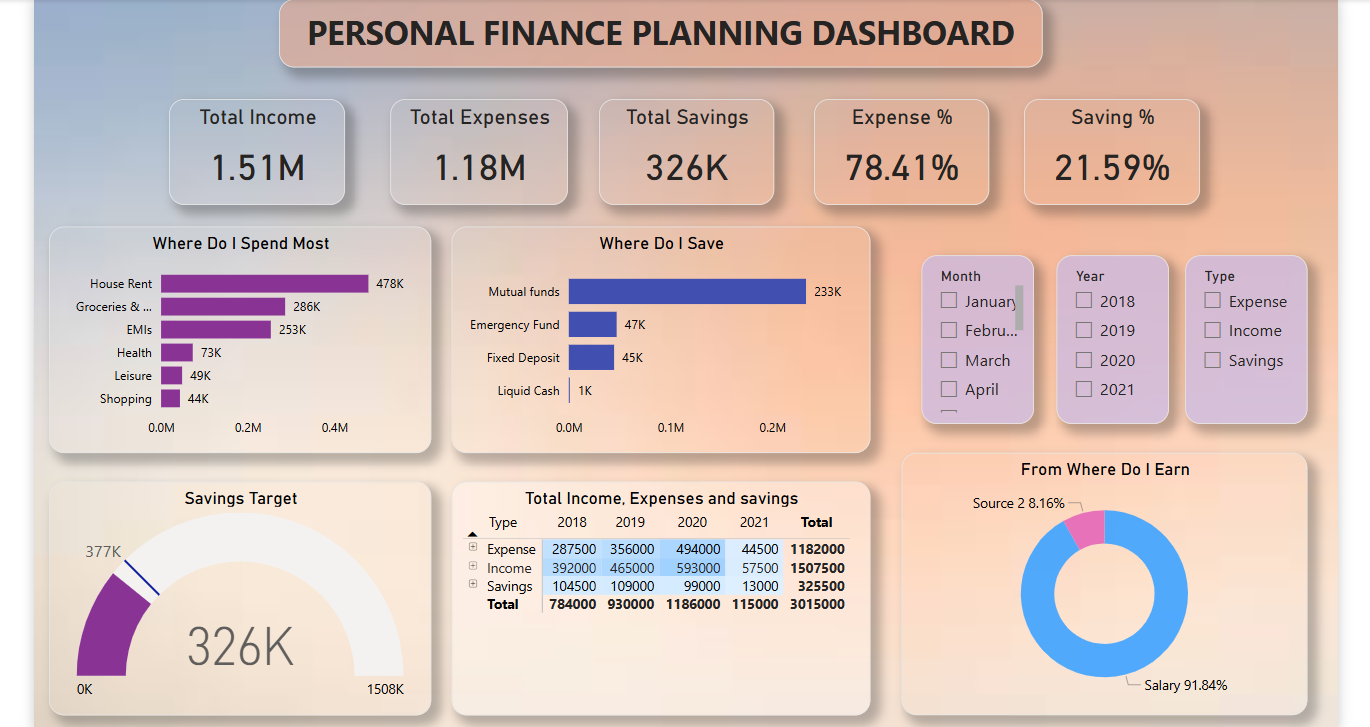

This screenshot's page, from the dashboard's own definition file:
{"tool":"powerbi","page":{"name":"Page 1","canvas":[1280,720],"ordinal":0},"visuals":[{"type":"textbox","box":[240.5,0,749.7,67.5],"z":0},{"type":"card","title":"Total Income","fields":{"Values":["Financial Data.Total Income"]},"box":[132.5,98.2,173,104.3],"z":1000},{"type":"card","title":"Total Expenses","fields":{"Values":["Financial Data.Total Savings"]},"box":[349.7,98.2,174.2,104.3],"z":2000},{"type":"card","title":"Total Savings","fields":{"Values":["Financial Data.Total Savings"]},"box":[554.6,98.2,171.8,104.3],"z":3000},{"type":"card","title":"Saving %","fields":{"Values":["Financial Data.Expense Percentage"]},"box":[971.8,98.2,173,104.3],"z":4000},{"type":"card","title":"Expense %","fields":{"Values":["Financial Data.Expenses Percentage"]},"box":[765.6,98.2,171.8,104.3],"z":5000},{"type":"slicer","fields":{"Values":["Financial Data.Year"]},"box":[1004.9,252.8,110.4,165.6],"z":6000},{"type":"slicer","fields":{"Values":["Financial Data.Date.Variation.Date Hierarchy.Month"]},"box":[871.2,251.5,110.4,165.6],"z":7000},{"type":"clusteredBarChart","title":"Where Do I Spend Most","fields":{"Category":["Financial Data.Component"],"Y":["Financial Data.Total Expense"]},"box":[14.7,223.3,375.5,222.1],"z":8000},{"type":"clusteredBarChart","title":"Where Do I Save","fields":{"Category":["Financial Data.Component"],"Y":["Financial Data.Total Savings"]},"box":[409.8,223.3,411,222.1],"z":8001},{"type":"donutChart","title":"From Where Do I Earn","fields":{"Category":["Financial Data.Component"],"Y":["Financial Data.Total Income"]},"box":[851.5,445.4,398.8,257.7],"z":8002},{"type":"pivotTable","title":"Total Income, Expenses and savings","fields":{"Columns":["Financial Data.Year"],"Rows":["Financial Data.Type","Financial Data.Component"],"Values":["Sum(Financial Data.Value)"]},"box":[409.8,473.6,411,229.4],"z":8003},{"type":"gauge","title":"Savings Target","fields":{"MaxValue":["Financial Data.Total Income"],"Y":["Financial Data.Total Savings"],"TargetValue":["Financial Data.Savings %"]},"box":[14.7,473.6,375.5,229.4],"z":8004},{"type":"slicer","fields":{"Values":["Financial Data.Type"]},"box":[1144.8,252.8,120.2,165.6],"z":8005}]}

Visuals, with their boxes on the page's 1280x720 design canvas (x1, y1, x2, y2). These are canvas units, not pixel positions in the 1370x727 screenshot, which may show the page scaled, cropped or inside an application window:
textbox: Rect(240, 0, 990, 68)
"Total Income" card: Rect(132, 98, 306, 202)
"Total Expenses" card: Rect(350, 98, 524, 202)
"Total Savings" card: Rect(555, 98, 726, 202)
"Saving %" card: Rect(972, 98, 1145, 202)
"Expense %" card: Rect(766, 98, 937, 202)
slicer - Financial Data.Year: Rect(1005, 253, 1115, 418)
slicer - Financial Data.Date.Variation.Date Hierarchy.Month: Rect(871, 252, 982, 417)
"Where Do I Spend Most" clusteredBarChart: Rect(15, 223, 390, 445)
"Where Do I Save" clusteredBarChart: Rect(410, 223, 821, 445)
"From Where Do I Earn" donutChart: Rect(852, 445, 1250, 703)
"Total Income, Expenses and savings" pivotTable: Rect(410, 474, 821, 703)
"Savings Target" gauge: Rect(15, 474, 390, 703)
slicer - Financial Data.Type: Rect(1145, 253, 1265, 418)
